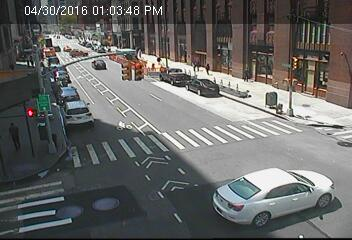pos: (1, 120, 24, 153), (204, 62, 213, 74)
